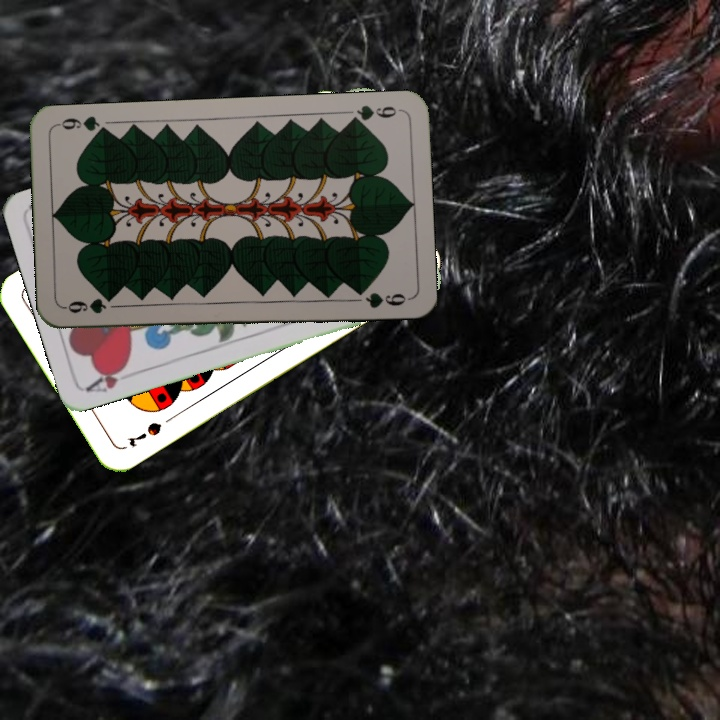G9: (344, 101, 403, 127), (62, 296, 121, 316)
HA: (83, 360, 132, 395)
S7: (123, 418, 164, 449)
